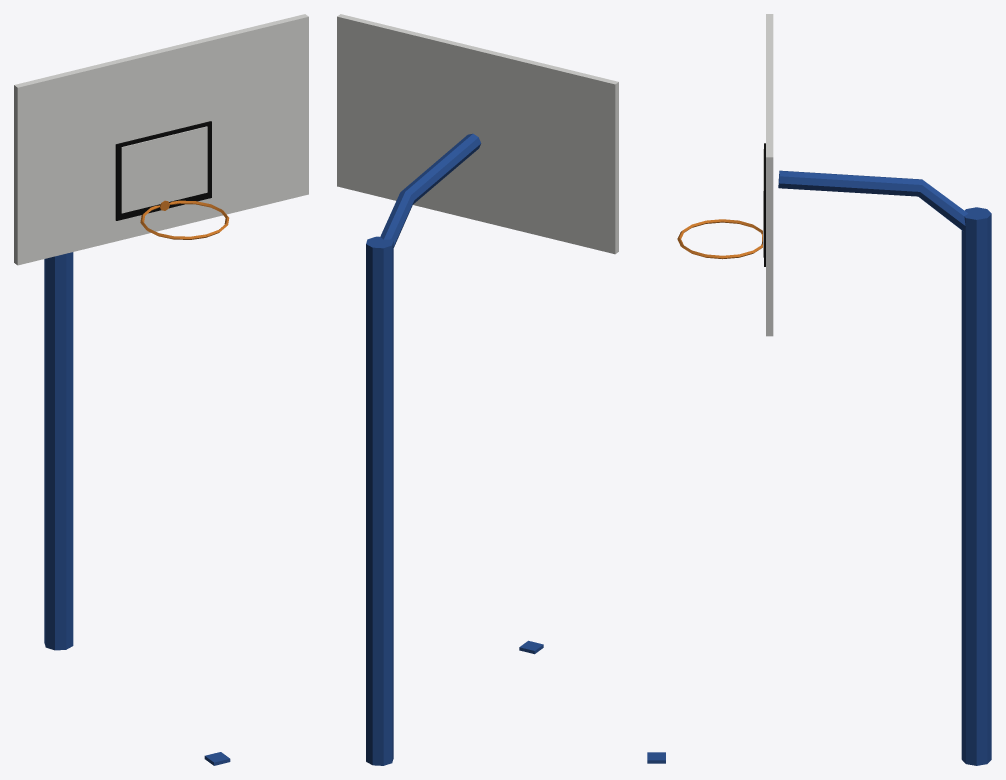
The model's file is sport.court.basket_post.glb.
3 renders of one model, left to right at view 1: azimuth 30°, elevation 25°; view 2: azimuth 150°, elevation 25°; view 3: azimuth 270°, elevation 25°, orthographic. The views are drawn at different scales.
Visible parts, largest first — view 1: main__paint_ddd, main__paint_259, main__rubber, main__paint_c72; view 2: main__paint_ddd, main__paint_259; view 3: main__paint_259, main__paint_ddd, main__paint_c72.
Boxes of the visible parts, x1,y1,x2,y2 form: main__paint_ddd: (14, 14, 308, 265); main__paint_259: (44, 252, 230, 765); main__rubber: (115, 121, 211, 220); main__paint_c72: (140, 200, 229, 239); main__paint_ddd: (337, 14, 618, 254); main__paint_259: (366, 133, 543, 765); main__paint_259: (647, 170, 991, 765); main__paint_ddd: (763, 14, 773, 336); main__paint_c72: (677, 219, 762, 259).
Bounding box in the file's own units: 1.8 × 3.95 × 1.83.
